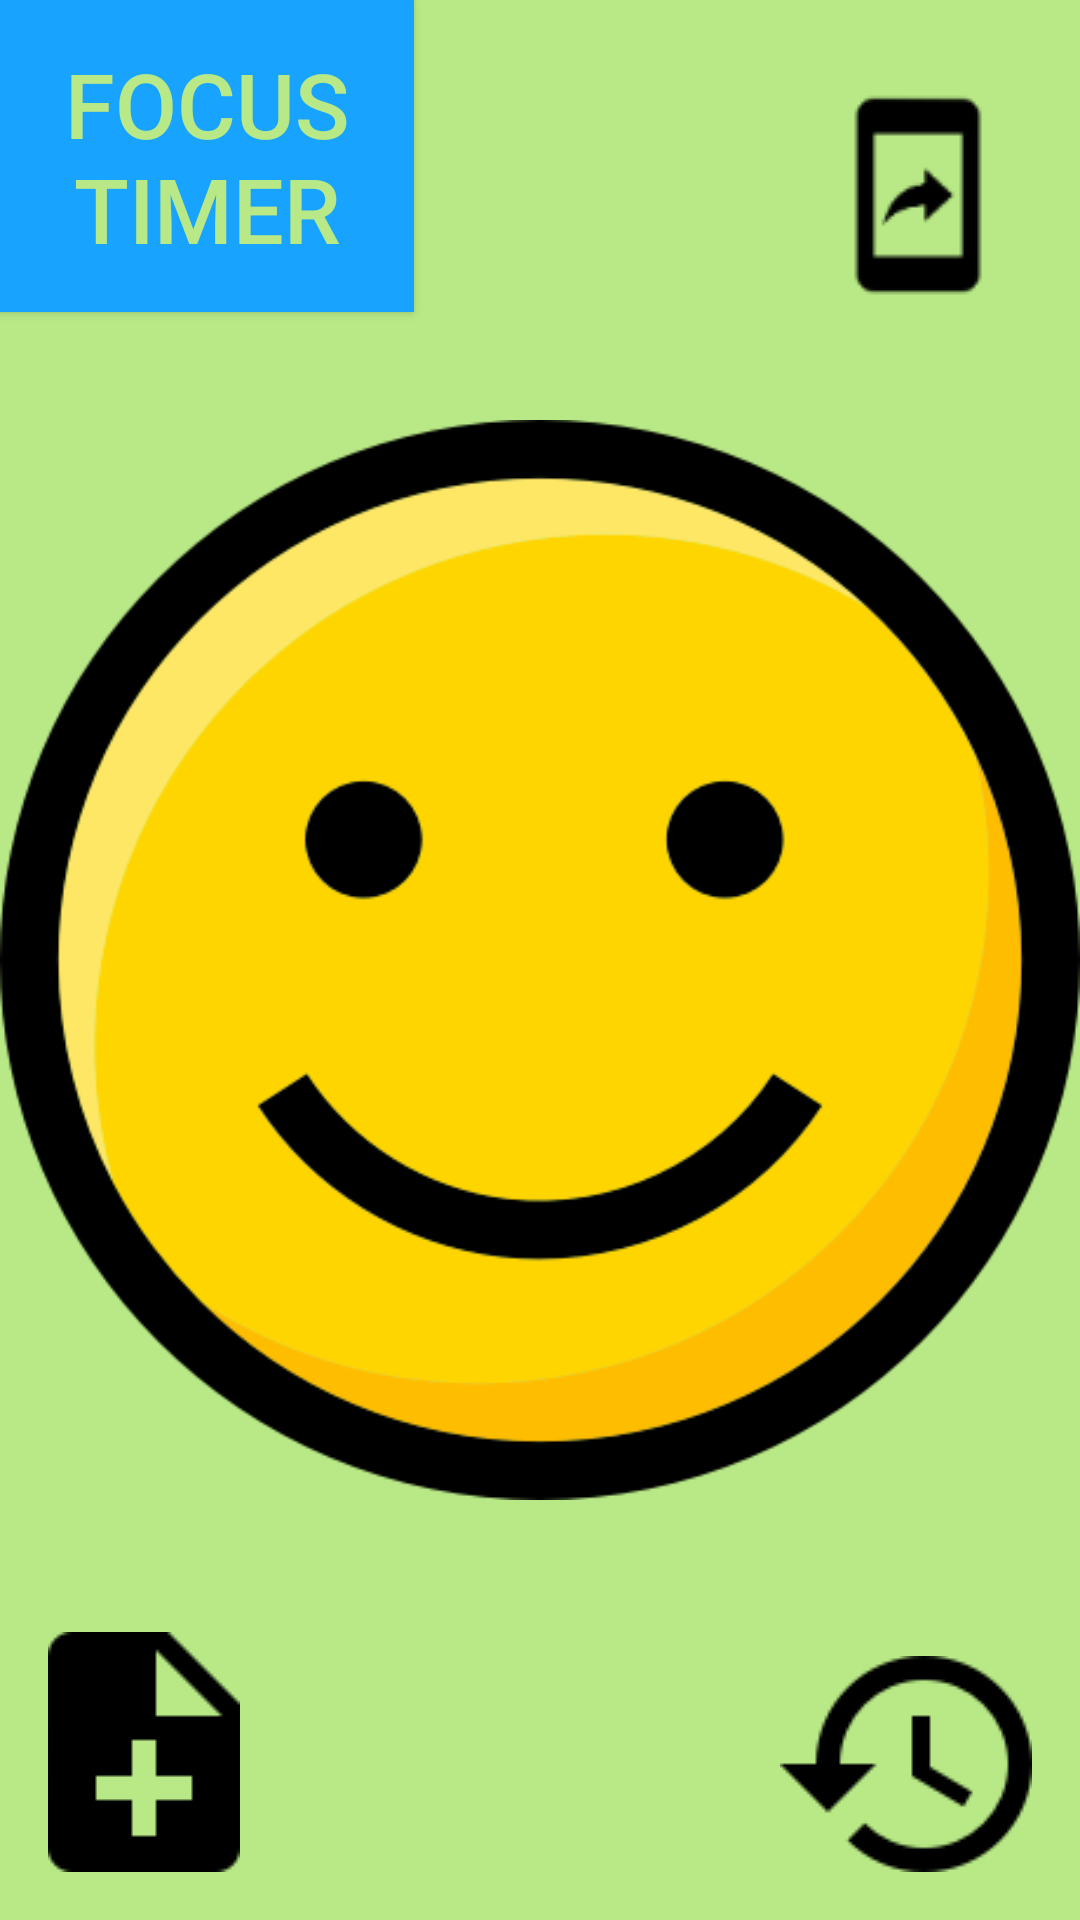

Icons on this 1080 x 1920 Android screen, each with the point to tap as (x,y):
Add Comment Button: (144,1752)
mobile screen share: (918,195)
Mood History Button: (906,1764)
